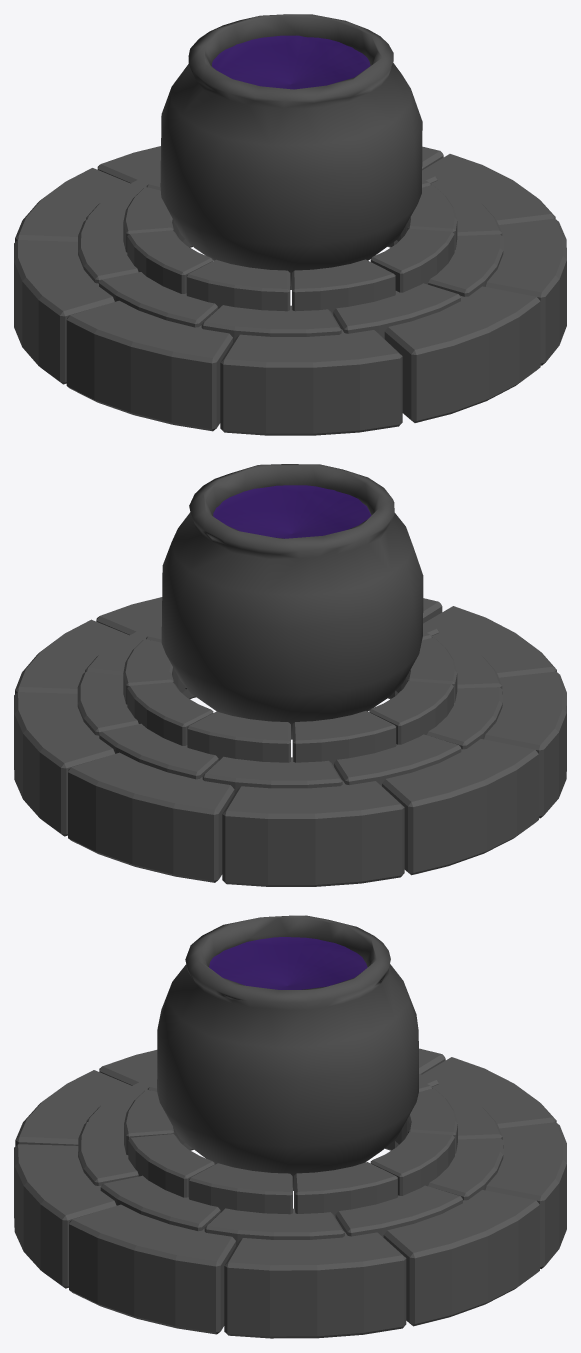
The model's file is Cauldron.fbx.
The picture shows the model from 3 angles, top to bottom: view 1: azimuth 30°, elevation 25°; view 2: azimuth 150°, elevation 25°; view 3: azimuth 270°, elevation 25°; orthographic projection.
Visible parts, largest first — view 1: Cauldron; view 2: Cauldron; view 3: Cauldron.
Part boxes in pixels (bbox=[...]): Cauldron: bbox=[14, 14, 566, 435]; Cauldron: bbox=[14, 464, 566, 886]; Cauldron: bbox=[14, 915, 566, 1338].
Bounding box in the file's own units: 275 × 148 × 275.
